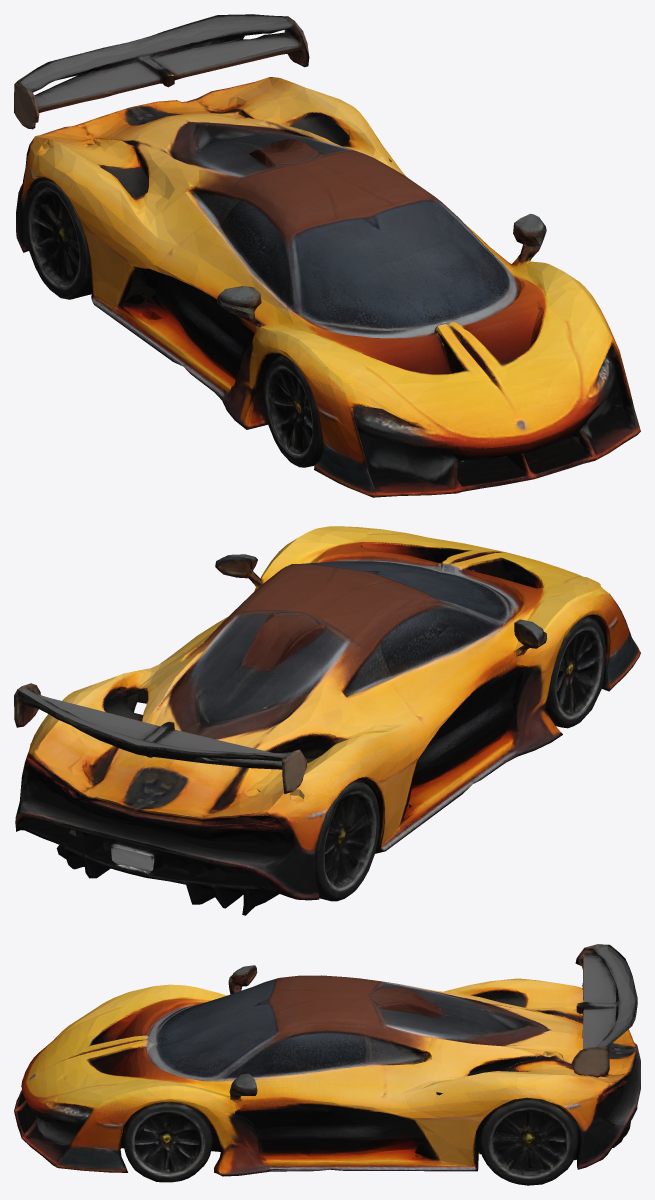
3 renders of one model, top to bottom at view 1: azimuth 30°, elevation 25°; view 2: azimuth 150°, elevation 25°; view 3: azimuth 270°, elevation 25°, orthographic. The views are drawn at different scales.
Parts seen in each view (by area): view 1: world; view 2: world; view 3: world.
Part boxes in pixels (x1,y1,x2,y2): world: [14, 14, 640, 497]; world: [14, 526, 640, 915]; world: [14, 944, 640, 1185].
Bounding box in the file's own units: 0.465 × 0.2439 × 1.
1 material, 1 textured.
